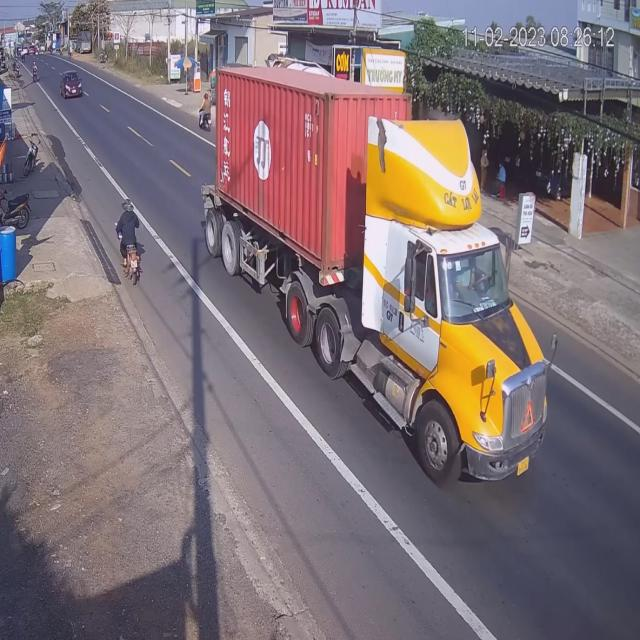car: (63, 70, 84, 100)
motorbike: (119, 201, 146, 289), (202, 95, 212, 132)
truck: (202, 86, 541, 496)
